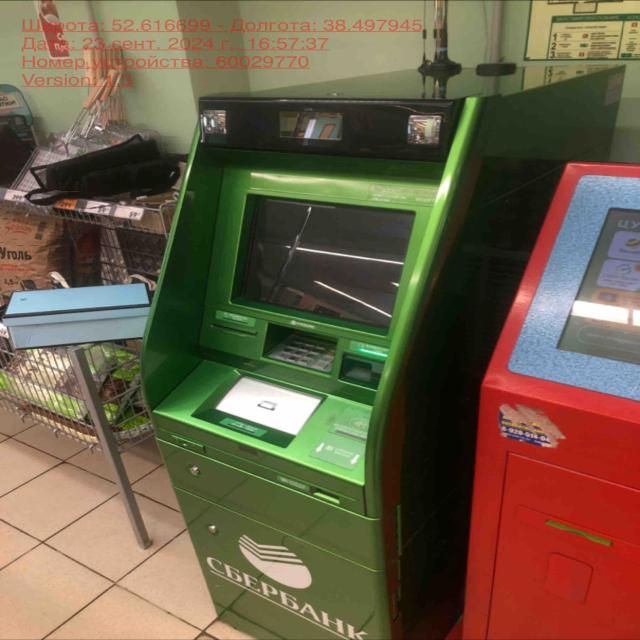bank: (134, 54, 623, 640)
